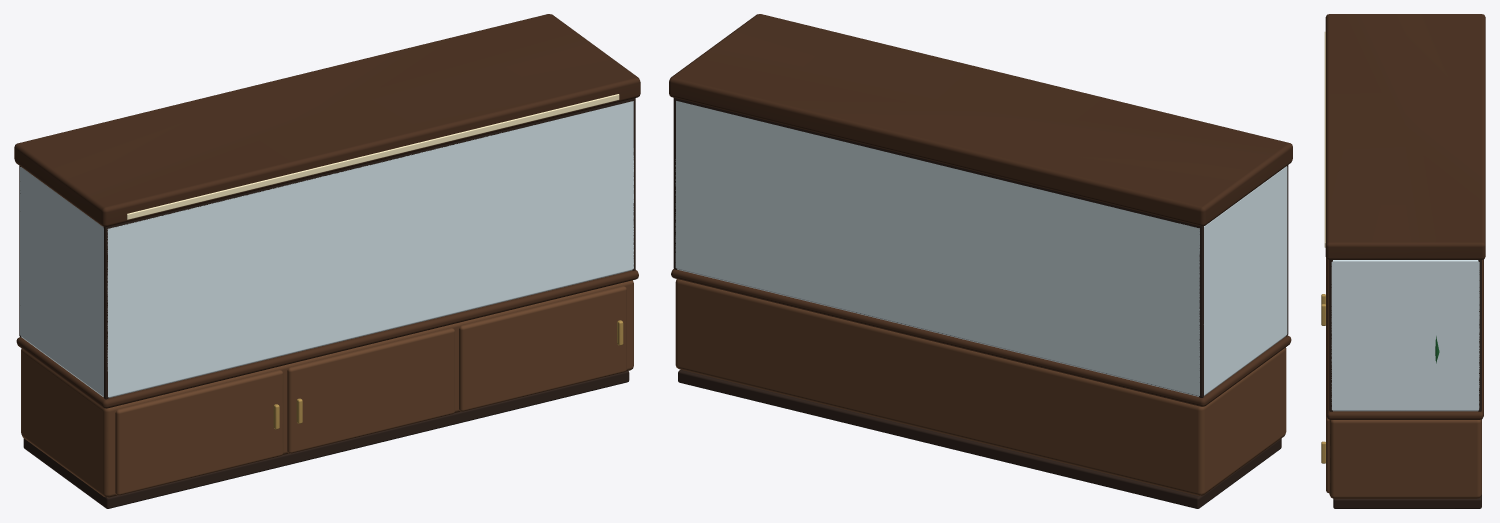
File: furn_fish_tank.glb
3 renders of one model, left to right at view 1: azimuth 30°, elevation 25°; view 2: azimuth 150°, elevation 25°; view 3: azimuth 270°, elevation 25°, orthographic. The views are drawn at different scales.
Visible parts, largest first — view 1: furn_fish_tank_main, furn_fish_tank_clear, furn_fish_tank_glow; view 2: furn_fish_tank_main, furn_fish_tank_clear; view 3: furn_fish_tank_main, furn_fish_tank_clear, furn_fish_tank_glow.
Boxes of the visible parts, left/top/right/bottom form: furn_fish_tank_main: left=14, top=14, right=640, bottom=508; furn_fish_tank_clear: left=20, top=101, right=633, bottom=397; furn_fish_tank_glow: left=127, top=94, right=619, bottom=219; furn_fish_tank_main: left=669, top=14, right=1292, bottom=508; furn_fish_tank_clear: left=675, top=101, right=1287, bottom=396; furn_fish_tank_main: left=1321, top=14, right=1485, bottom=508; furn_fish_tank_clear: left=1331, top=260, right=1479, bottom=411; furn_fish_tank_glow: left=1324, top=31, right=1325, bottom=247.
Bounding box in the file's own units: 2.8 × 1.52 × 0.842.
